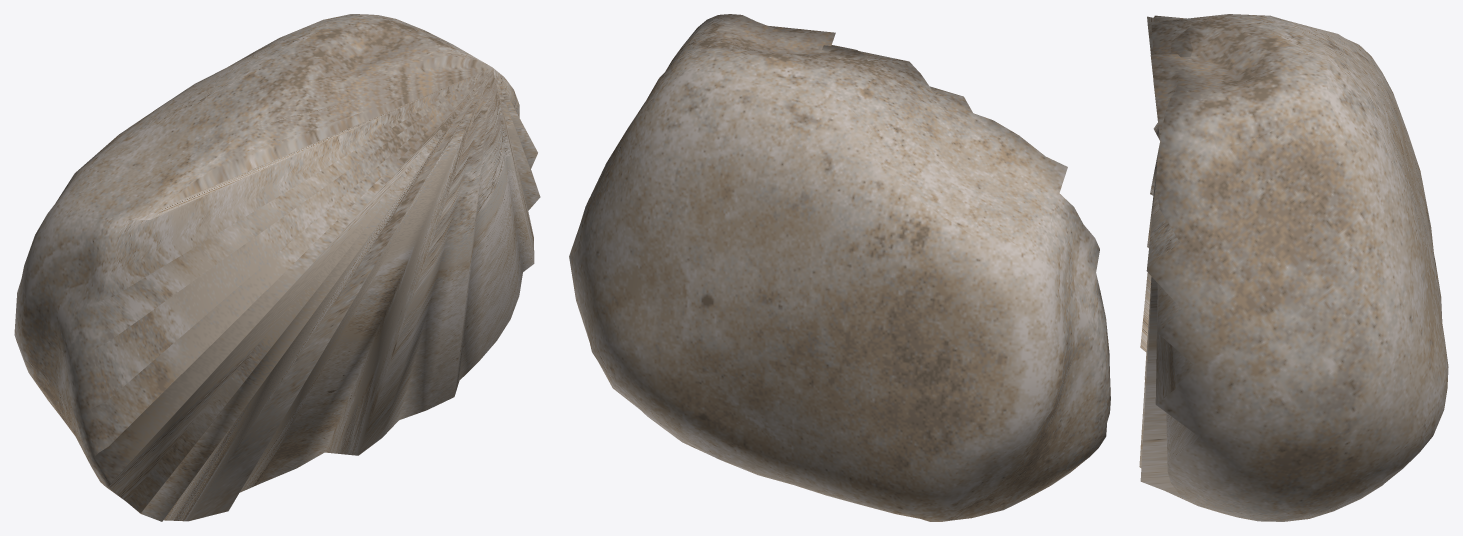
File: stenasperedi2kamen.fbx
3 views of the same model, side by side, from view 1: azimuth 30°, elevation 25°; view 2: azimuth 150°, elevation 25°; view 3: azimuth 270°, elevation 25° (orthographic). The views are drawn at different scales.
Visible parts, largest first — view 1: Sample_stone_mesh.002; view 2: Sample_stone_mesh.002; view 3: Sample_stone_mesh.002.
Part boxes in pixels (x1,y1,x2,y2): Sample_stone_mesh.002: (14, 14, 540, 521); Sample_stone_mesh.002: (569, 14, 1110, 521); Sample_stone_mesh.002: (1139, 14, 1448, 521).
Size of the model in its own units: 86.07 by 72.14 by 41.83.
